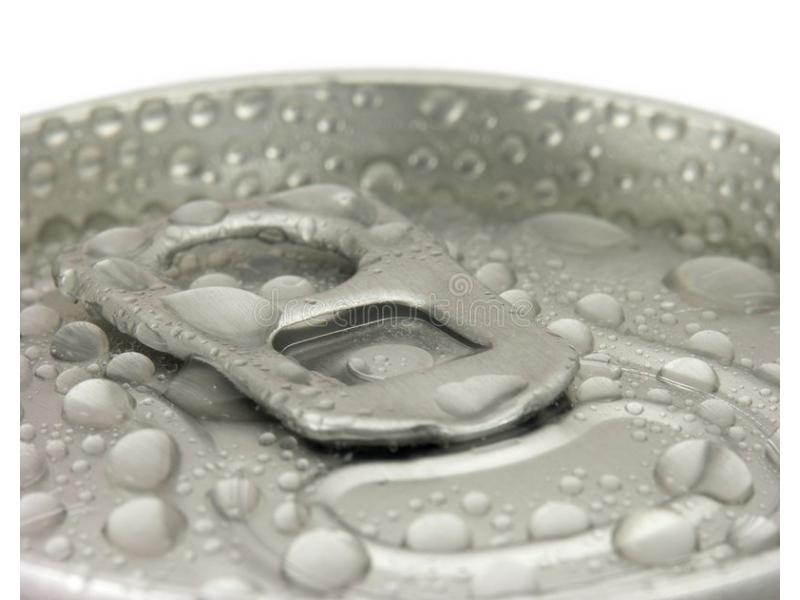can: (17, 65, 782, 600)
